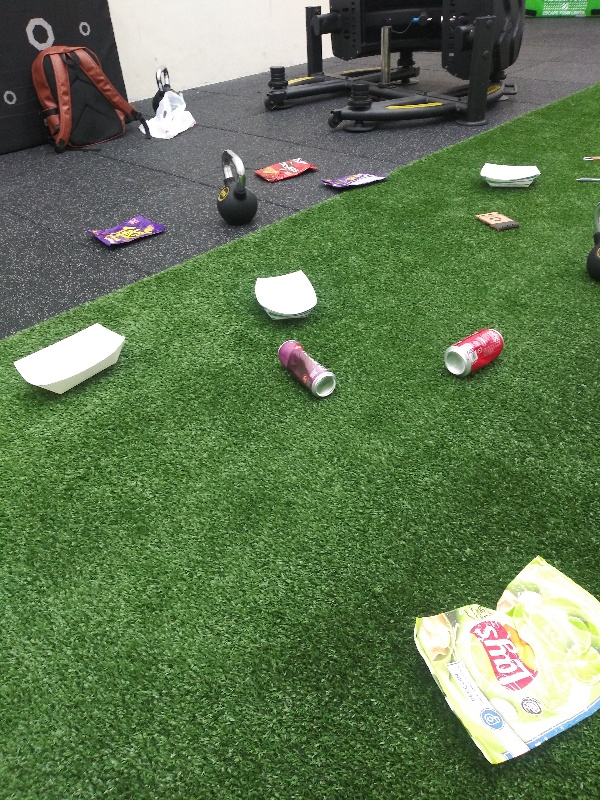bag: (405, 548, 596, 770), (80, 211, 168, 254), (252, 150, 320, 187), (316, 169, 390, 194)
can: (272, 336, 340, 402), (440, 321, 507, 383)
plate: (10, 316, 133, 401), (252, 268, 318, 325), (473, 156, 543, 195)
